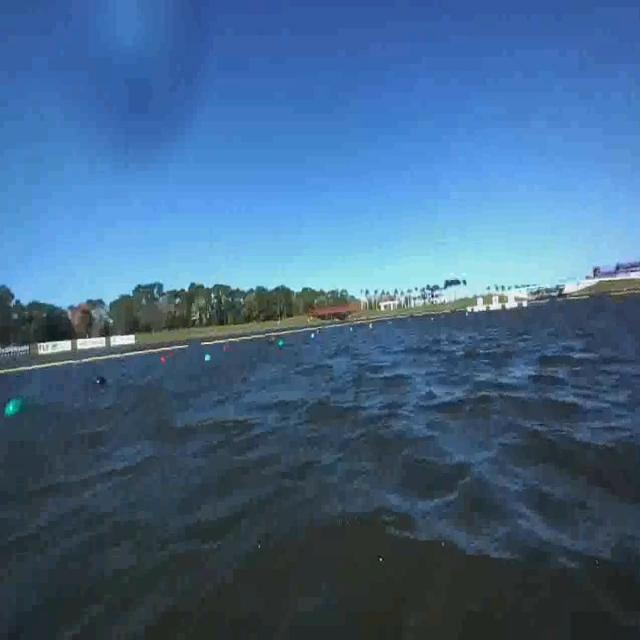green-buoy: (5, 402, 23, 420), (279, 340, 285, 350)
